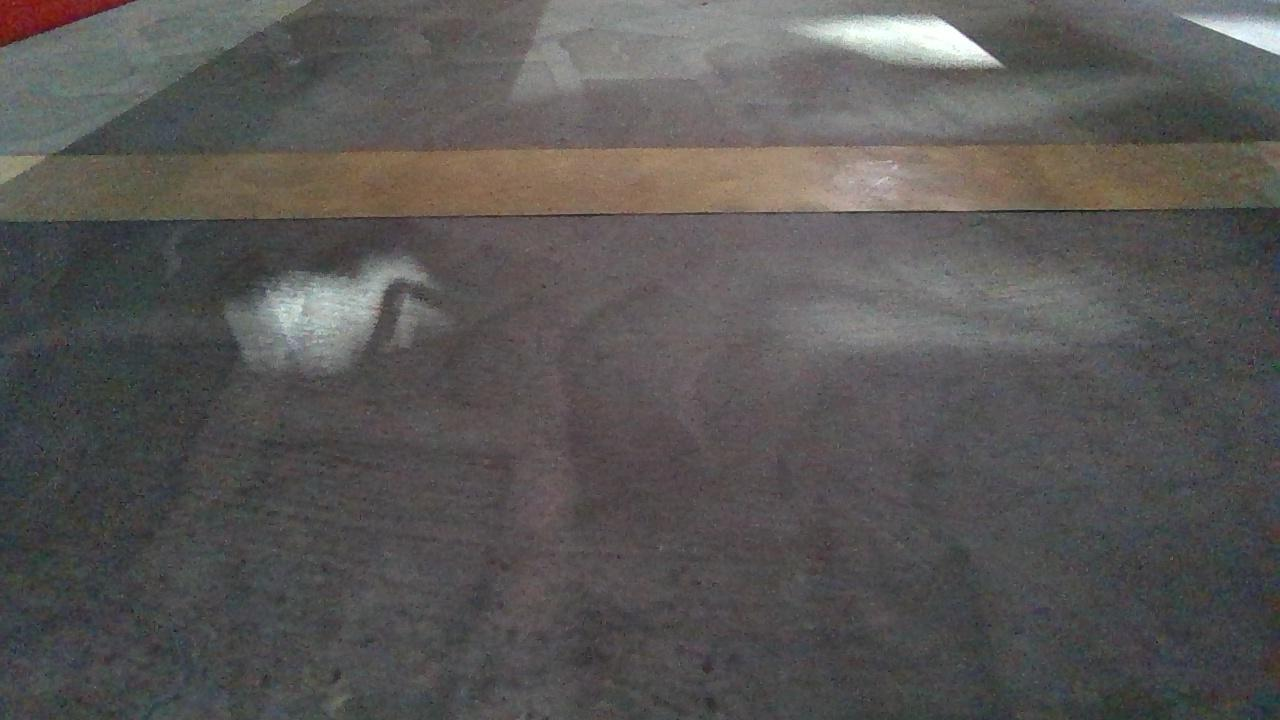yellow_line: (0, 133, 1280, 228)
